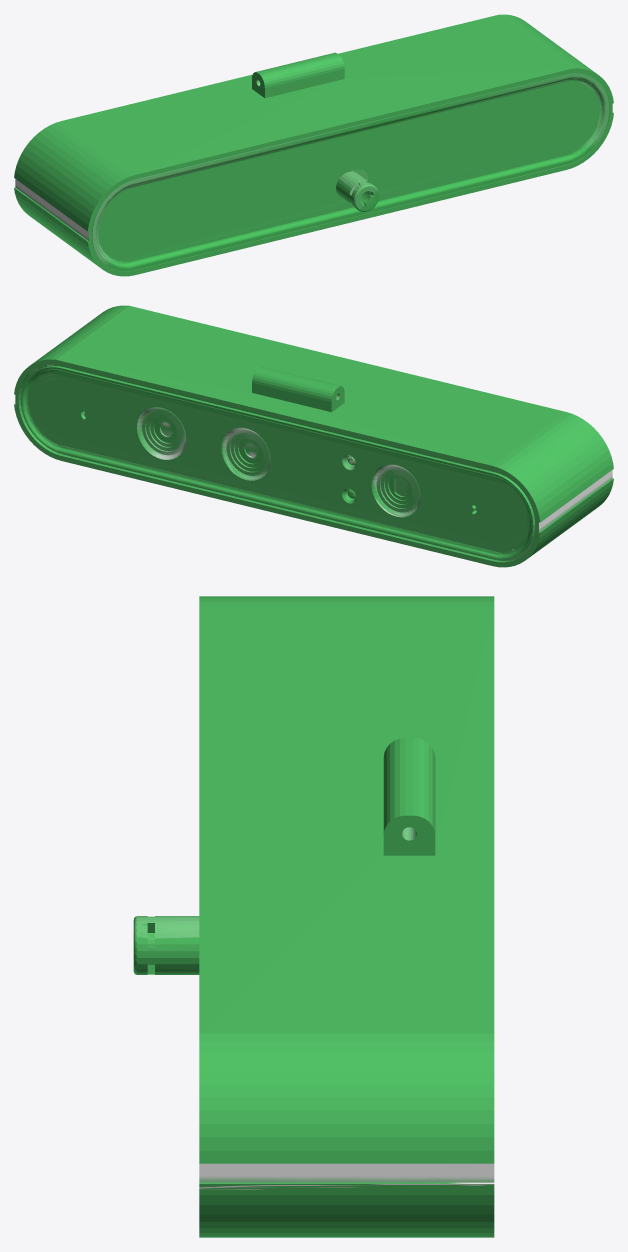
The model's file is astra2_green.dae.
The picture shows the model from 3 angles, top to bottom: view 1: azimuth 30°, elevation 25°; view 2: azimuth 150°, elevation 25°; view 3: azimuth 270°, elevation 25°; orthographic projection. The views are drawn at different scales.
Parts seen in each view (by area): view 1: Astra Body; view 2: Astra Body; view 3: Astra Body.
Boxes of the visible parts, x1,y1,x2,y2 form: Astra Body: [14, 14, 613, 276]; Astra Body: [14, 305, 613, 567]; Astra Body: [133, 596, 494, 1237].
Bounding box in the file's own units: 0.1648 × 0.0489 × 0.036.
1 material, 1 textured.
